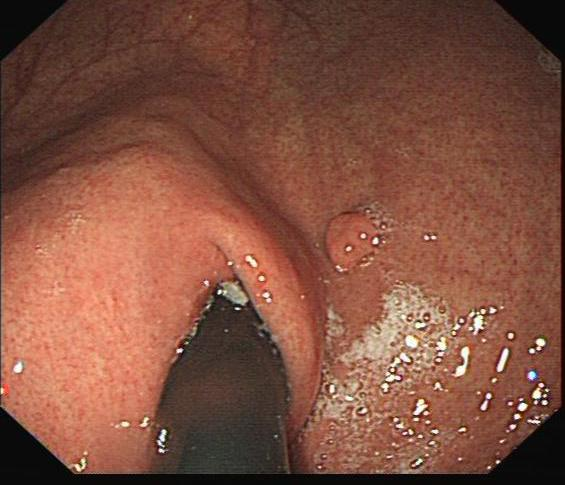Polyp: (313, 206, 392, 275)
